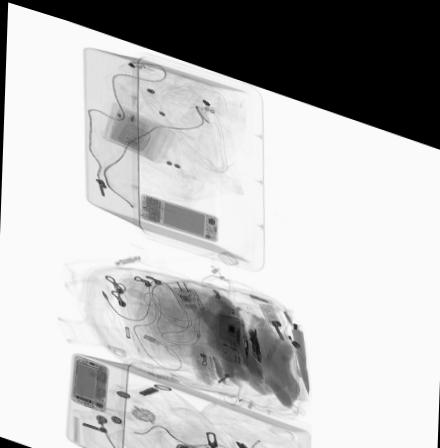Powerbank: (142, 184, 217, 226)
